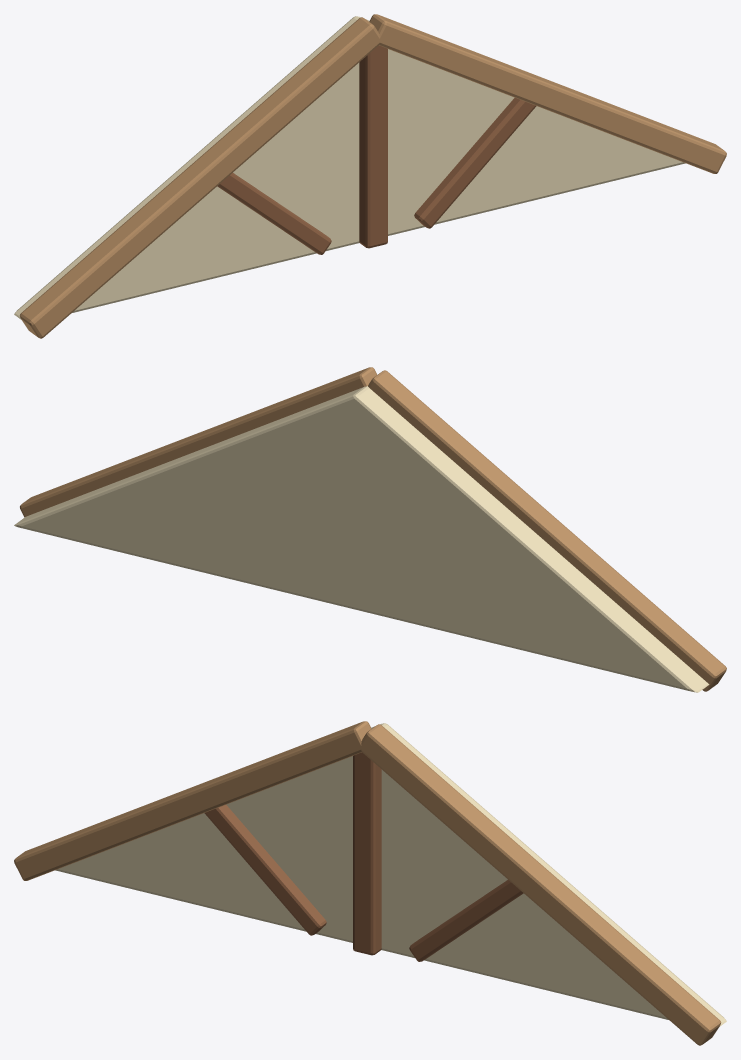
Rendered from gable_plaster_4m.glb.
3 renders of one model, top to bottom at view 1: azimuth 30°, elevation 25°; view 2: azimuth 150°, elevation 25°; view 3: azimuth 330°, elevation 25°, orthographic.
Parts seen in each view (by area): view 1: gable_plaster_4m; view 2: gable_plaster_4m; view 3: gable_plaster_4m.
Part boxes in pixels (x1,y1,x2,y2): gable_plaster_4m: [14, 14, 726, 338]; gable_plaster_4m: [14, 367, 726, 692]; gable_plaster_4m: [14, 721, 726, 1045].
Size of the model in its own units: 4.05 by 1.3 by 0.255.
